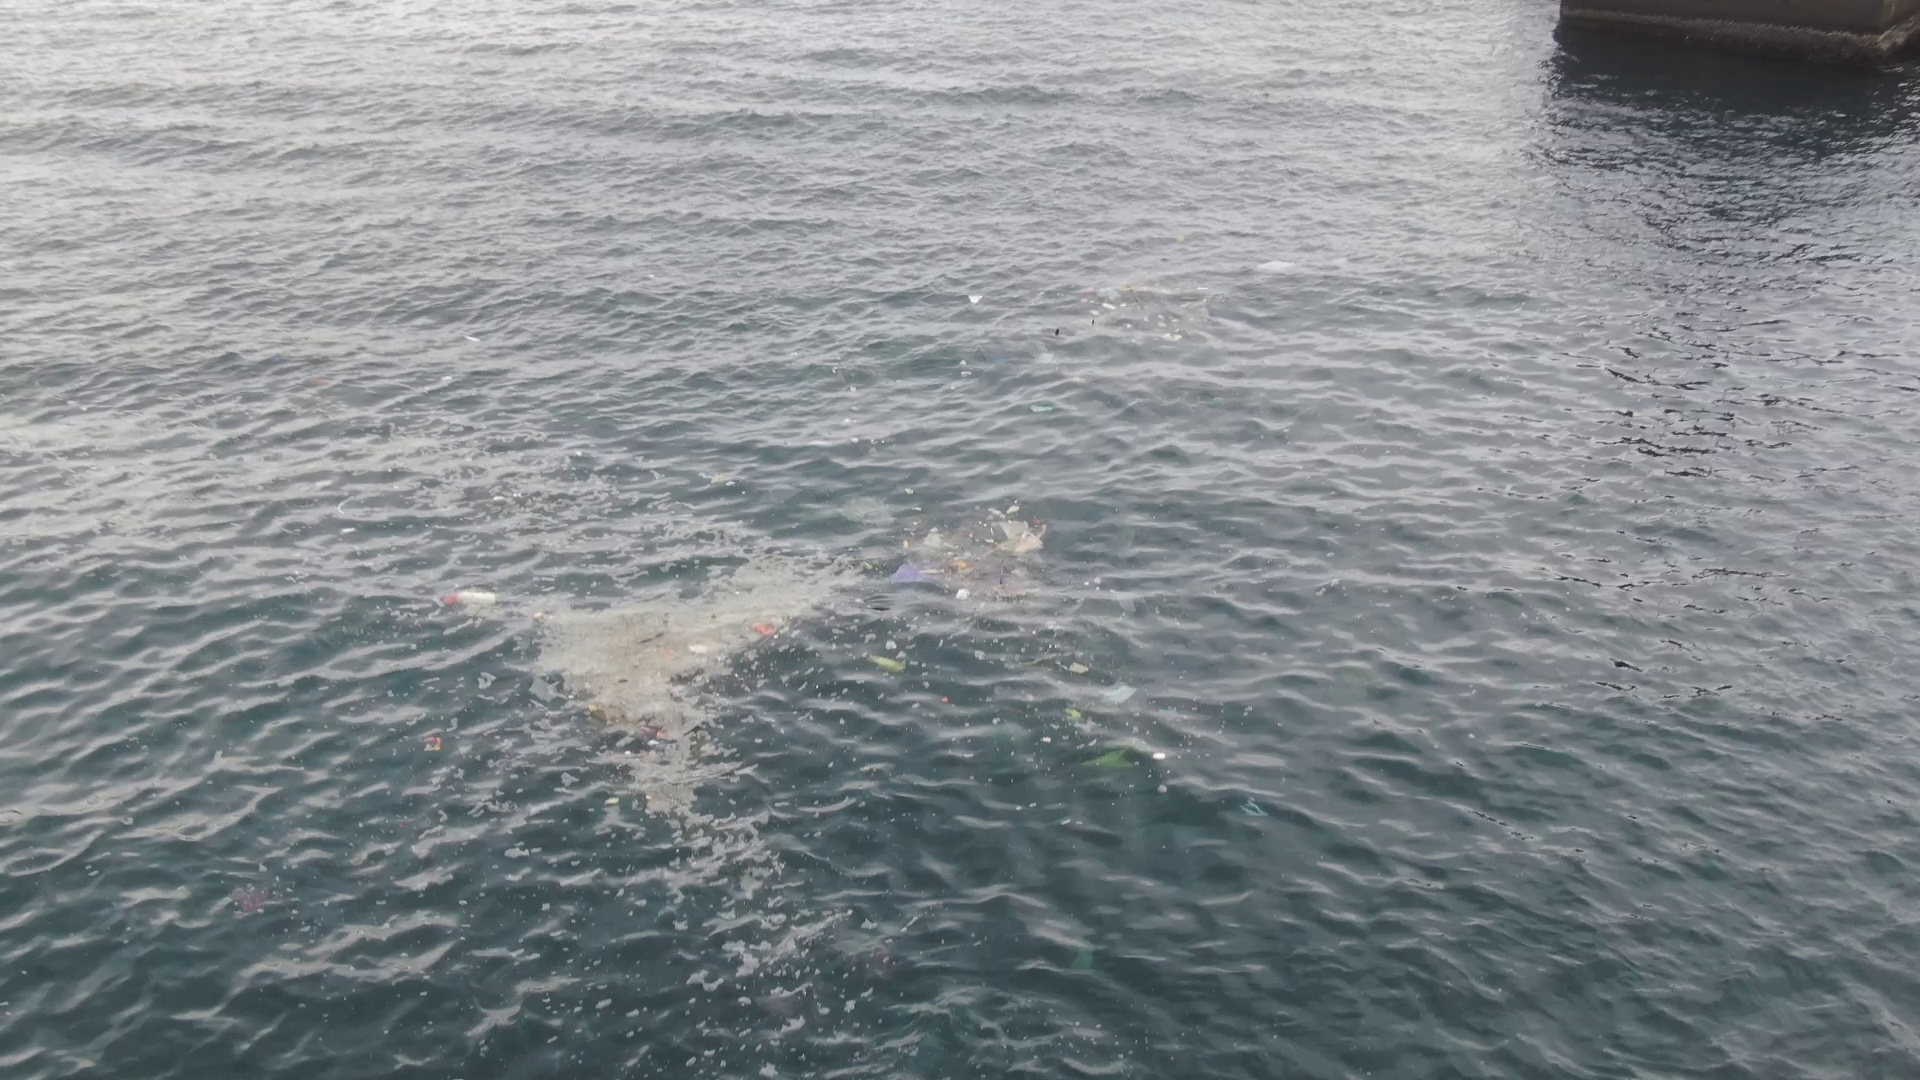garbage: (386, 498, 1160, 799)
